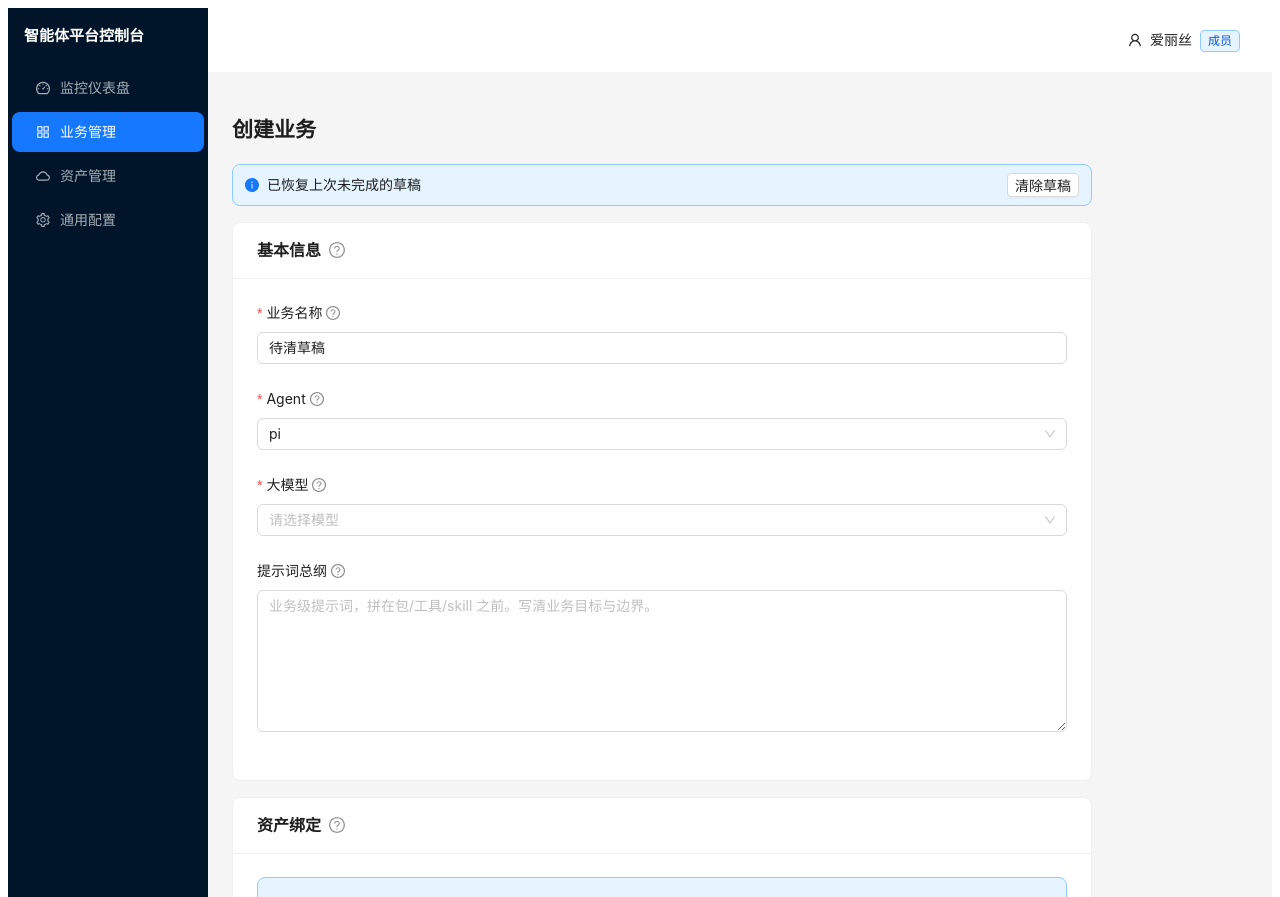
Test: T25：event_type 通配 + 创建草稿 + 随建环境配置 › ④ 手动「清除草稿」：删 localStorage + 表单回到初始空态 + 提示消失
Click the button "清除草稿" at (1043, 185), box [1007,173,1079,197]
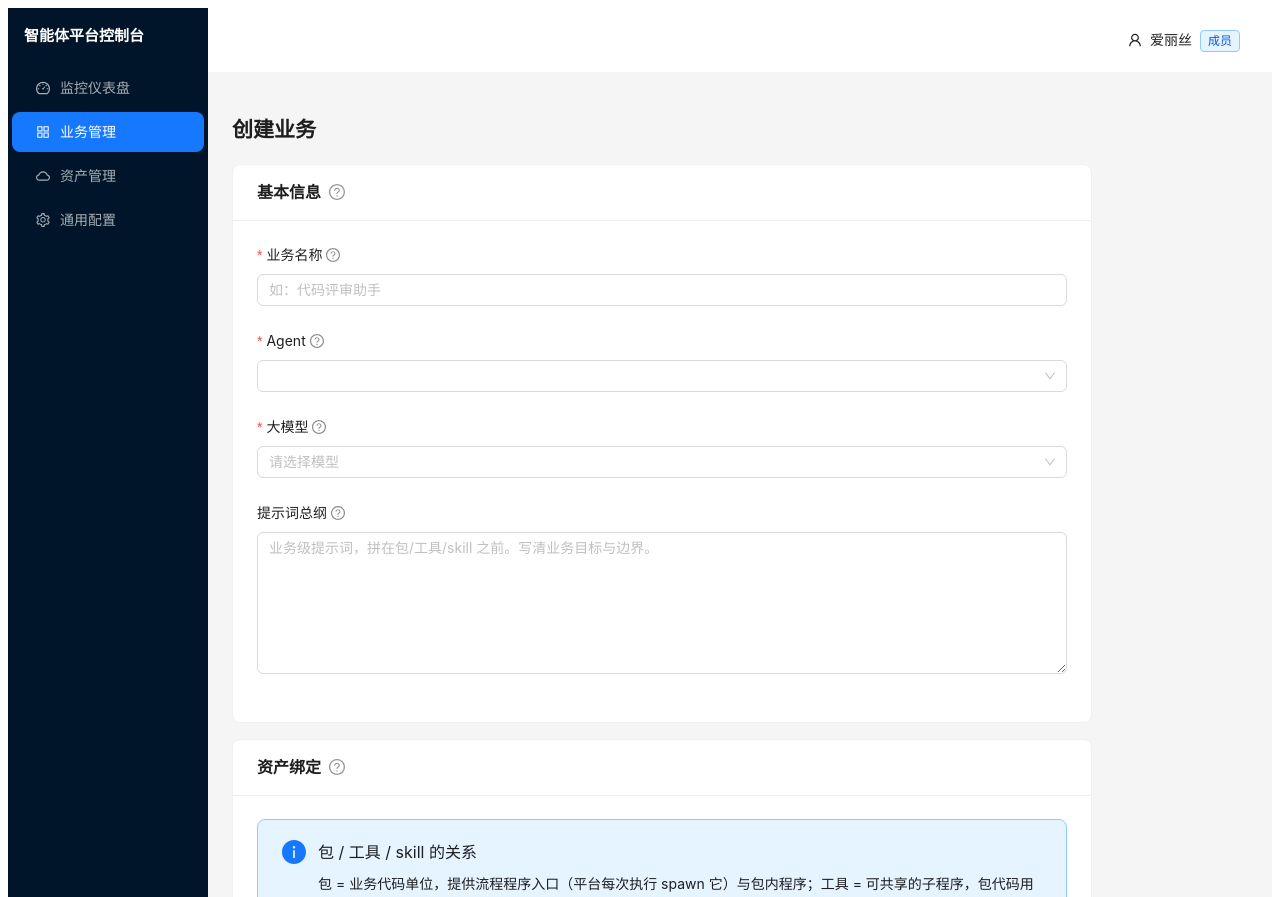
Expected: the field labelled "业务名称" is empty, [257,274,1067,306]
Expected: the text "已恢复上次未完成的草稿" is gone
